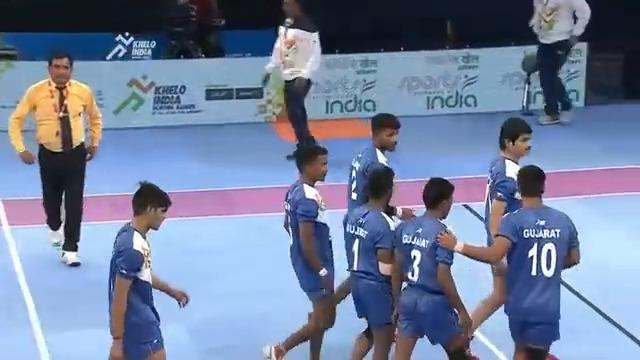Player: (437, 163, 581, 359), (262, 143, 337, 359), (390, 176, 478, 359), (106, 180, 190, 359), (344, 161, 401, 358), (261, 0, 325, 159), (528, 0, 591, 125)
referee: (7, 52, 102, 266)
